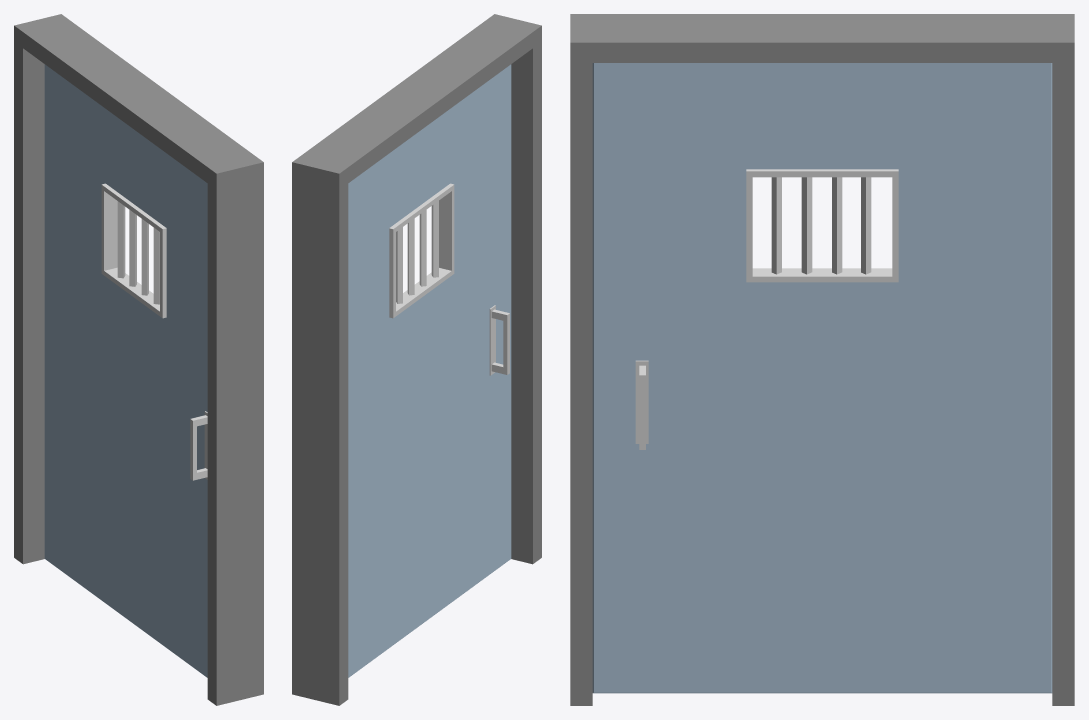
The model's file is DoorMetal1.fbx.
3 renders of one model, left to right at view 1: azimuth 30°, elevation 25°; view 2: azimuth 150°, elevation 25°; view 3: azimuth 270°, elevation 25°, orthographic. The views are drawn at different scales.
Parts seen in each view (by area): view 1: DoodMetal1, DoorMetalFrame1; view 2: DoodMetal1, DoorMetalFrame1; view 3: DoodMetal1, DoorMetalFrame1.
Boxes of the visible parts, bbox=[...] form: DoodMetal1: bbox=[44, 64, 207, 677]; DoorMetalFrame1: bbox=[14, 14, 263, 705]; DoodMetal1: bbox=[348, 64, 511, 677]; DoorMetalFrame1: bbox=[292, 14, 541, 705]; DoodMetal1: bbox=[592, 63, 1052, 693]; DoorMetalFrame1: bbox=[570, 14, 1074, 705].
Size of the model in its own units: 42.05 by 452 by 312.
